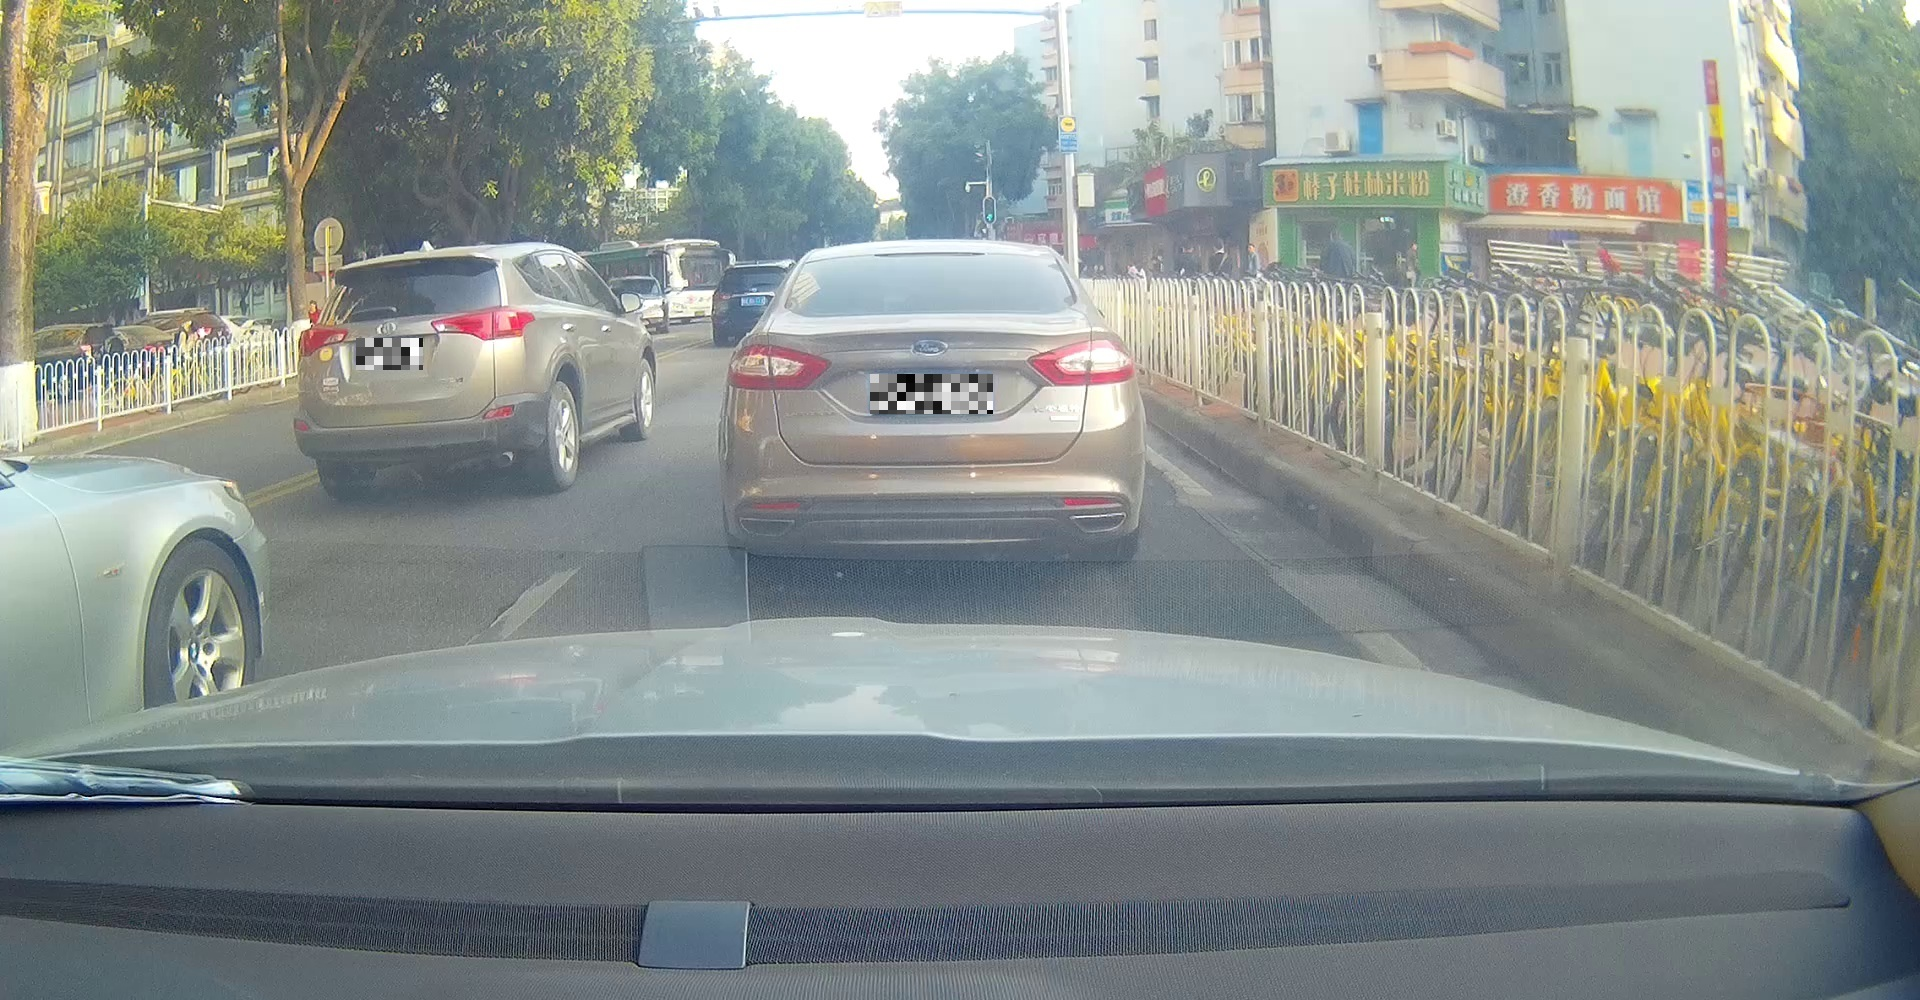L_light: (726, 341, 830, 390), (297, 324, 349, 357)
R_light: (1026, 336, 1137, 386), (430, 305, 536, 341)
T_light: (872, 247, 985, 258), (375, 256, 423, 269)
day-no: (725, 239, 1135, 569), (292, 246, 538, 497)
plate_1: (356, 338, 423, 371)
plate_2: (870, 374, 993, 414)
